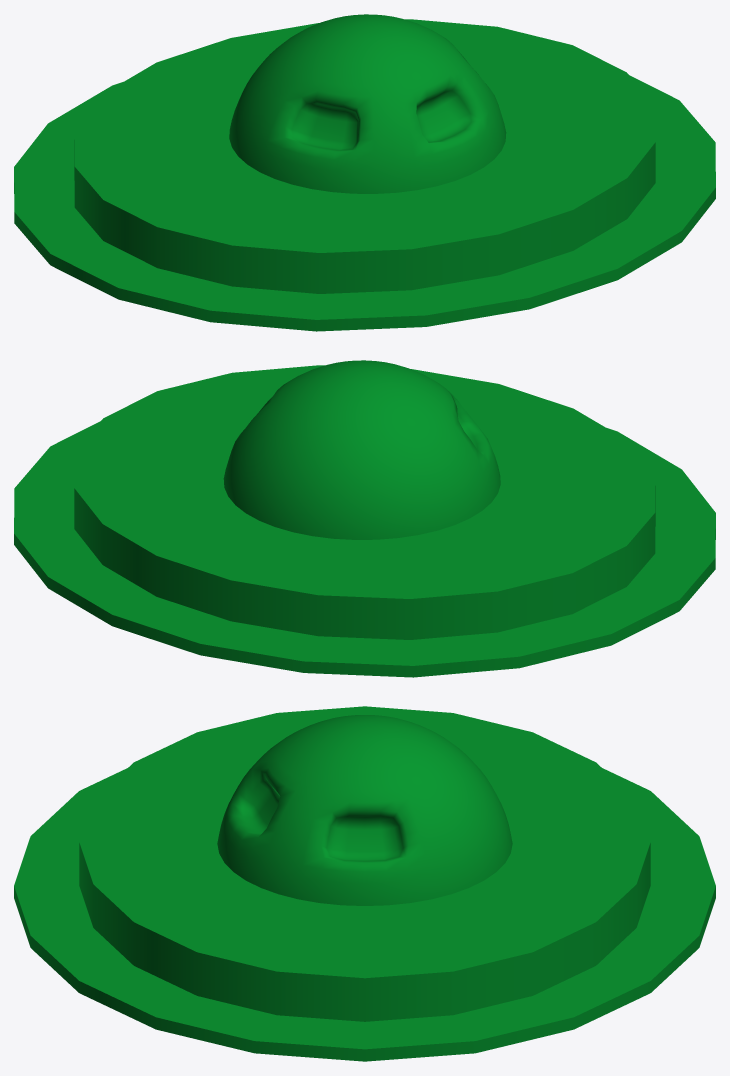
The model's file is UFO.fbx.
3 views of the same model, one above another, from view 1: azimuth 30°, elevation 25°; view 2: azimuth 150°, elevation 25°; view 3: azimuth 270°, elevation 25° (orthographic). The views are drawn at different scales.
Parts seen in each view (by area): view 1: pasted__pCylinder1, pasted__pSphere2; view 2: pasted__pCylinder1, pasted__pSphere2; view 3: pasted__pCylinder1, pasted__pSphere2.
Part boxes in pixels (x1,y1,x2,y2): pasted__pCylinder1: (14,19,715,331); pasted__pSphere2: (229,14,506,193); pasted__pCylinder1: (14,365,715,677); pasted__pSphere2: (223,360,500,539); pasted__pCylinder1: (14,706,715,1061); pasted__pSphere2: (217,715,512,905).
Bounding box in the file's own units: 0.0906 × 0.0356 × 0.0822.
